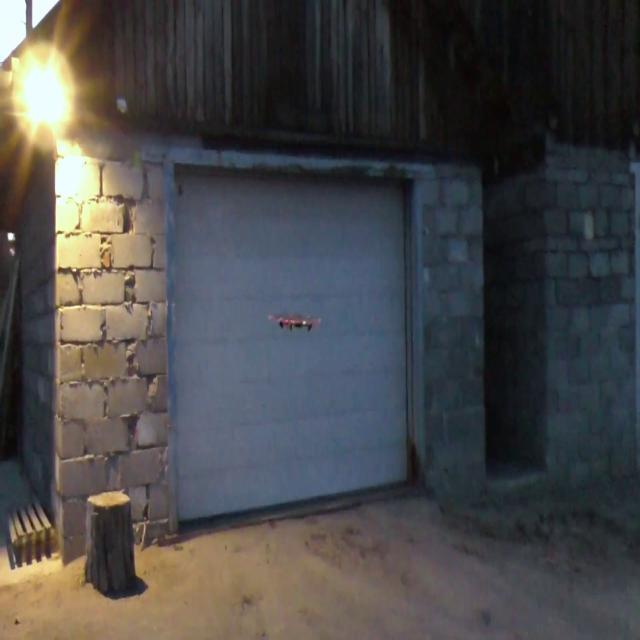Drons: (264, 308, 324, 334)
